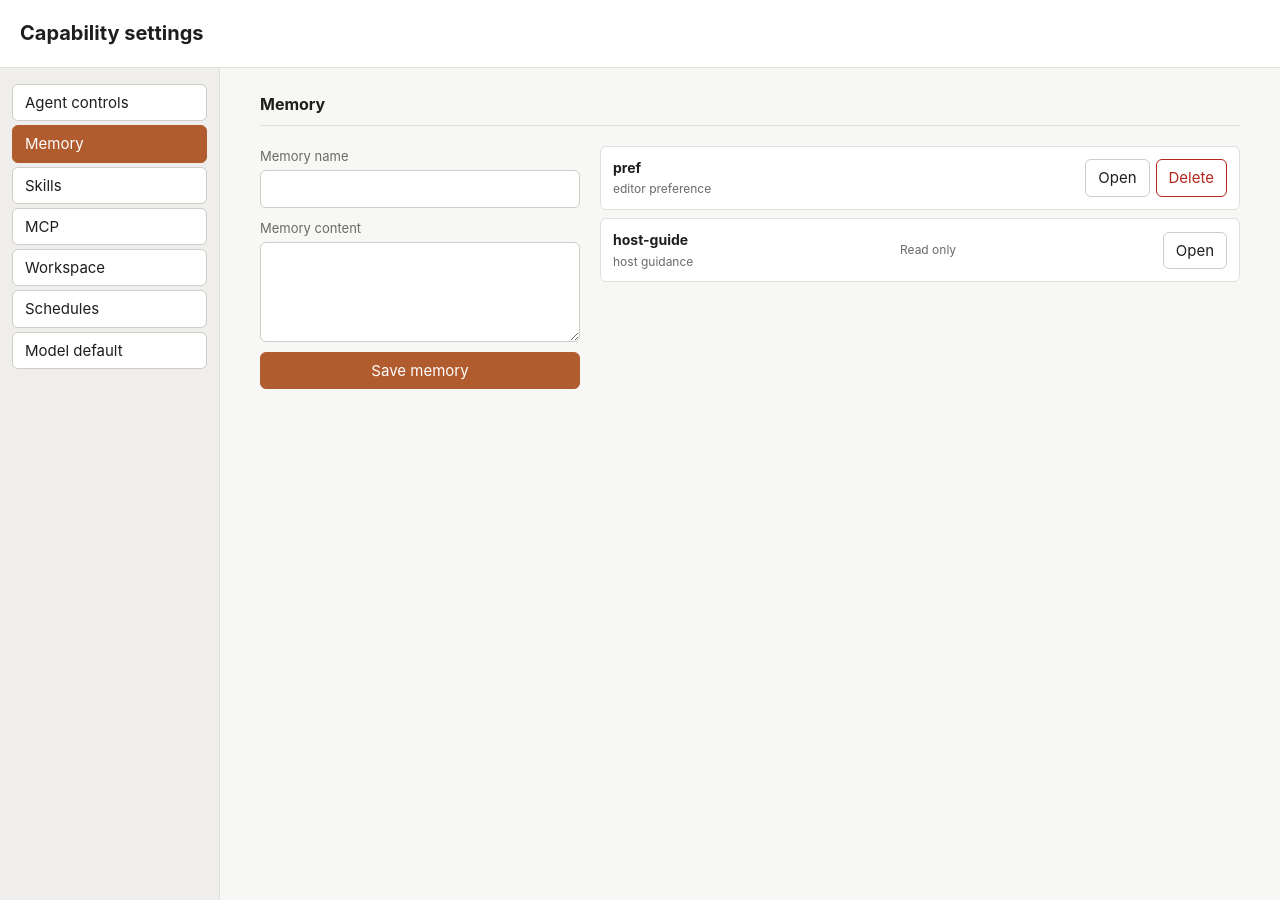
Scenario: CapabilitySettingsView › shows a public-safe memory delete refusal without refreshing
The width and height of the screenshot is (1280, 900).
Click the button "Delete" at (1191, 178), box x1=1156 y1=159 x2=1227 y2=197
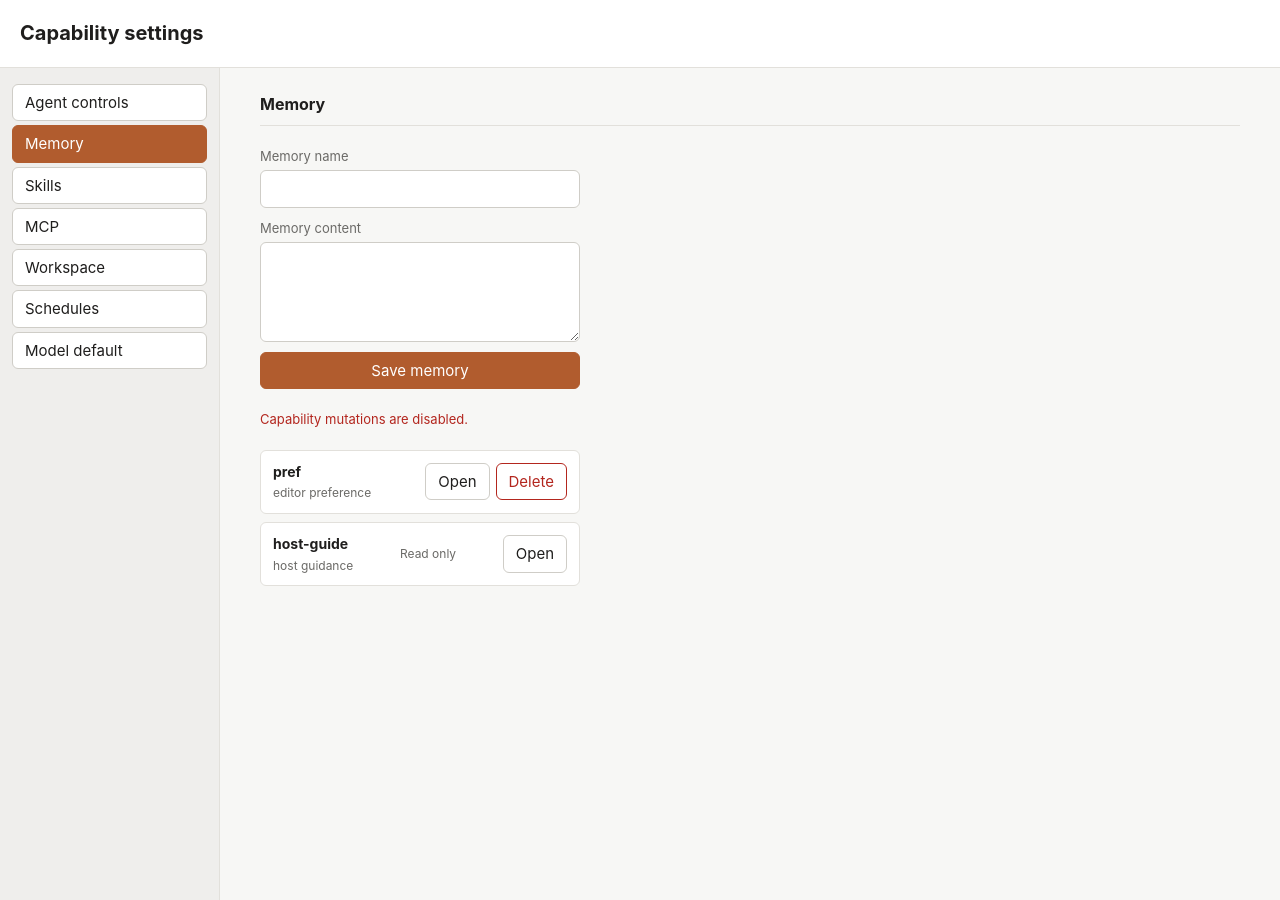
Expected: the text "Capability mutations are disabled." is shown, x1=260 y1=412 x2=468 y2=428
